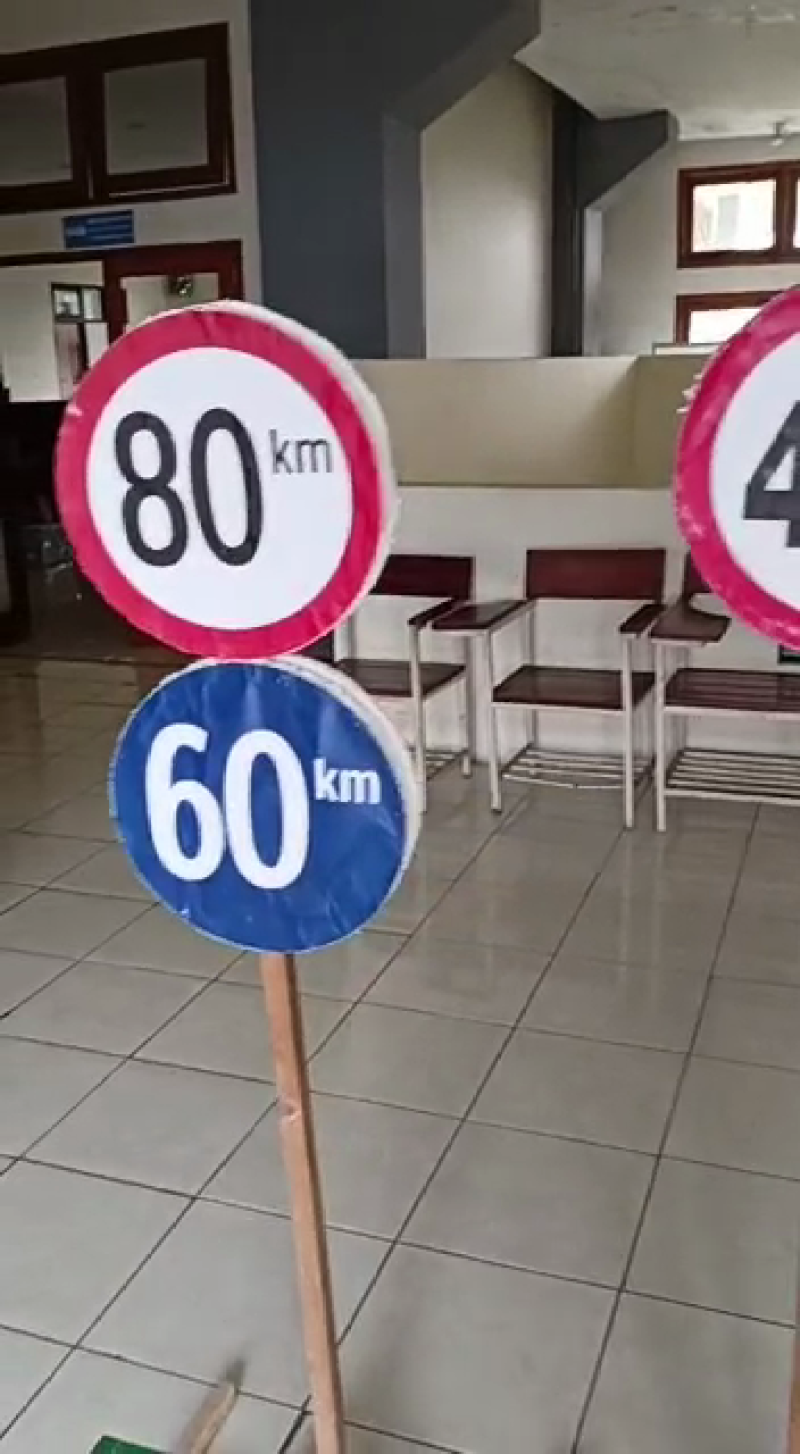batas maksimal 80kmperjam minimal 60kmperjam: (47, 286, 442, 966)
